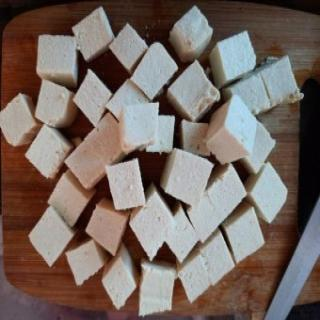Tahu: (1, 4, 301, 318)
